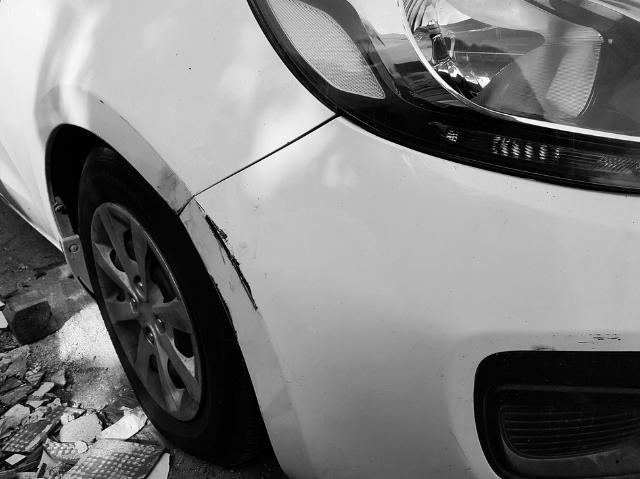Bumper: (189, 195, 308, 326)
